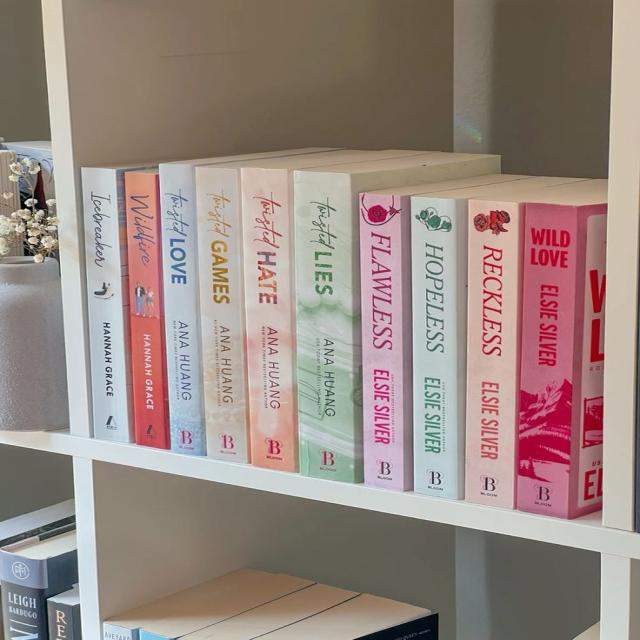book: (294, 171, 361, 481), (516, 200, 580, 518), (464, 201, 523, 508), (410, 196, 467, 500), (242, 170, 297, 472), (196, 169, 248, 462), (360, 194, 410, 490), (82, 168, 134, 443), (159, 164, 206, 455), (124, 172, 169, 449)
